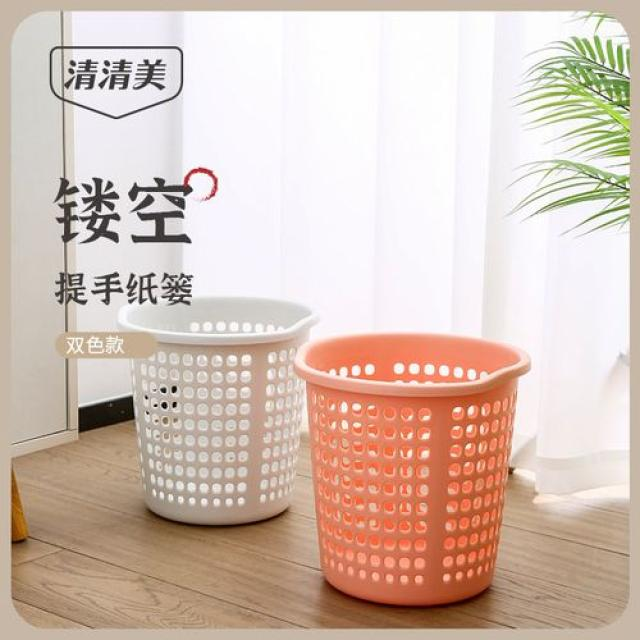dustbin: (293, 327, 534, 609), (118, 289, 320, 532)
